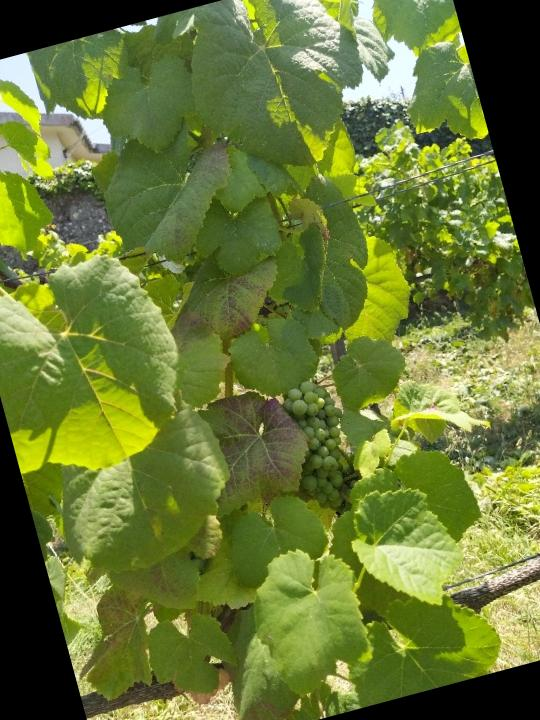grape: (270, 370, 367, 519)
